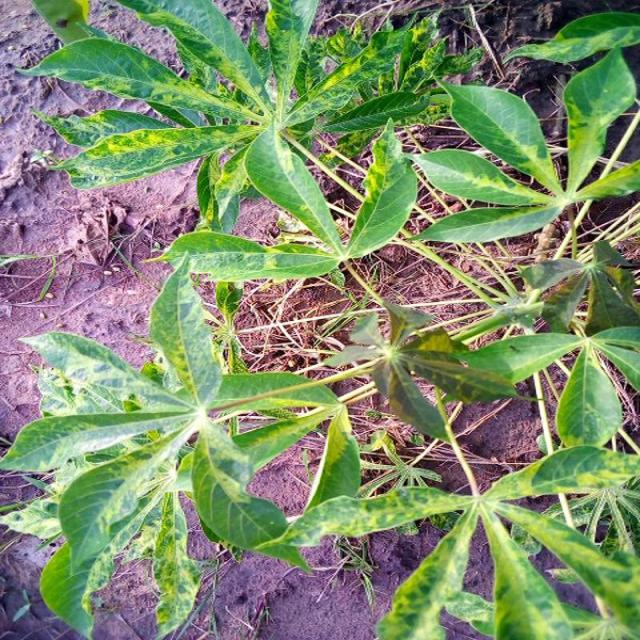cassava leaf: (1, 0, 638, 638), (1, 255, 353, 637)
